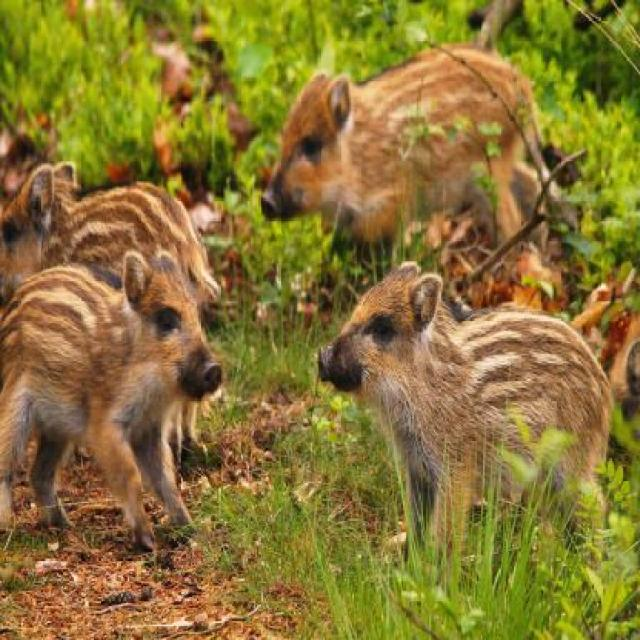wildboar: (311, 255, 614, 587), (255, 35, 579, 303), (0, 241, 220, 573), (1, 154, 222, 348)
